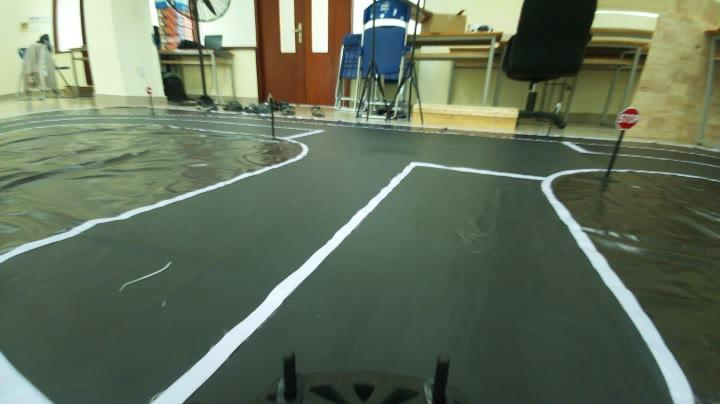stop: (611, 105, 642, 131)
